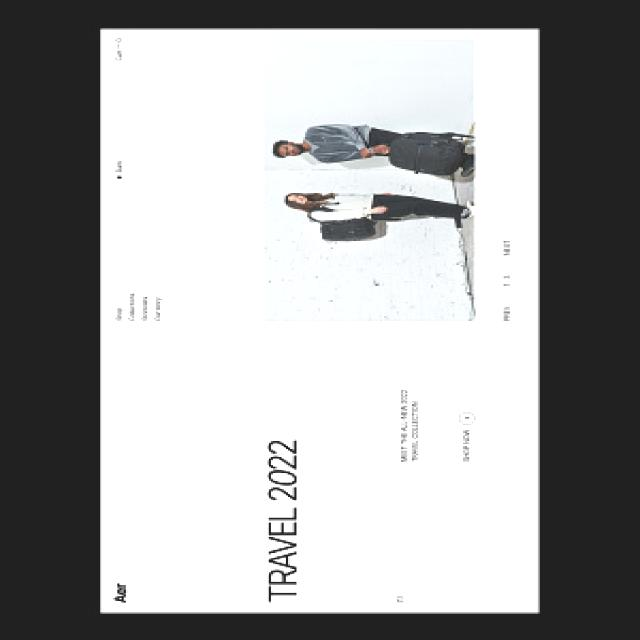backpack: (387, 134, 466, 177), (308, 213, 387, 243)
